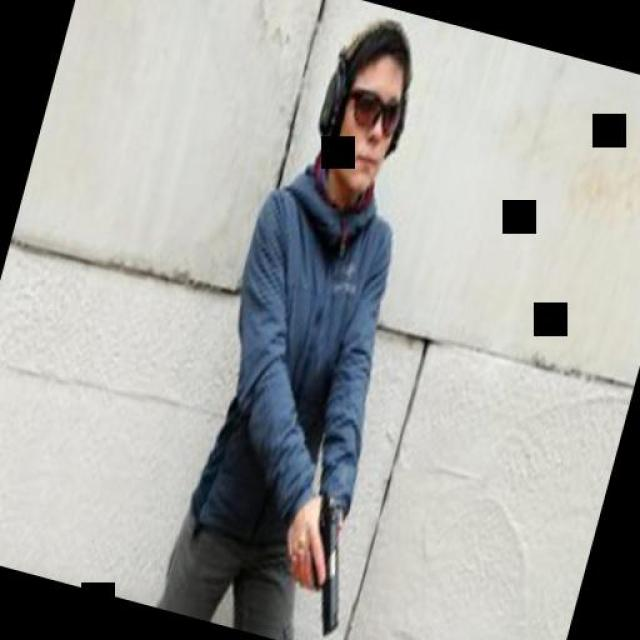gun: (266, 489, 368, 640)
